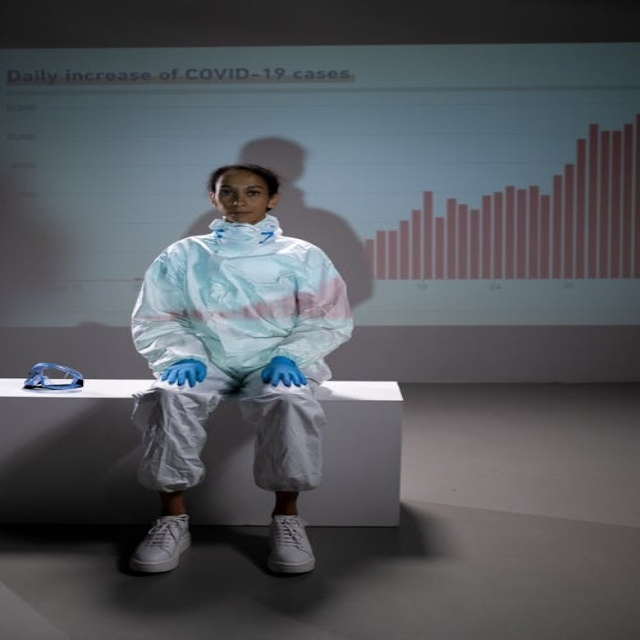Guantes: (158, 358, 207, 388), (261, 356, 306, 388)
Sin_gafas: (217, 189, 267, 201)
Sin_mascara: (224, 208, 255, 221)
